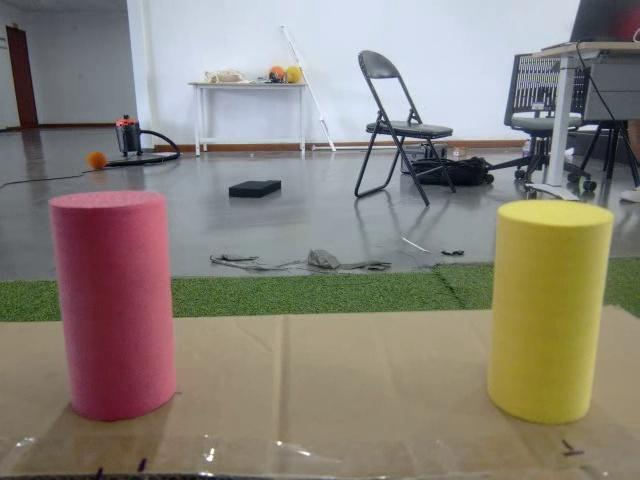red_cylinder: (49, 191, 175, 421)
yellow_cylinder: (486, 198, 613, 422)
